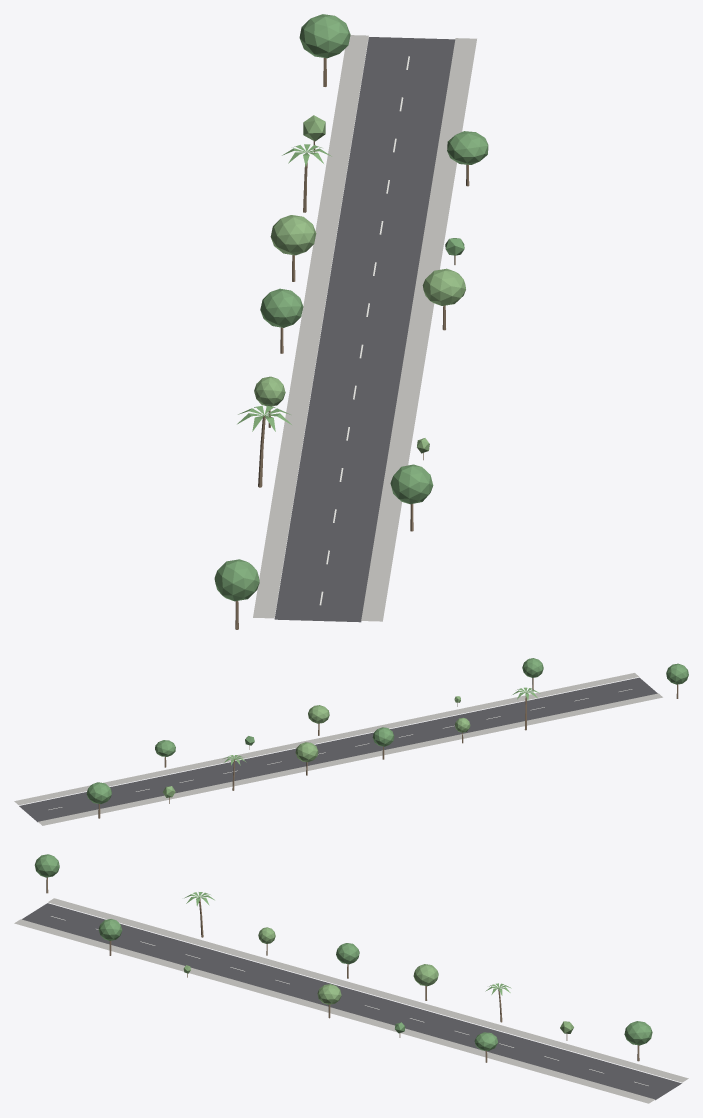
File: tile_-4_-9.glb
3 views of the same model, one above another, from view 1: azimuth 30°, elevation 25°; view 2: azimuth 150°, elevation 25°; view 3: azimuth 270°, elevation 25° (orthographic). The views are drawn at different scales.
Parts seen in each view (by area): view 1: roads_asphalt, roads_sidewalk, nature_foliage_a, nature_foliage_b, nature_trunk, nature_palm_leaf; view 2: roads_asphalt, roads_sidewalk, nature_foliage_a, nature_foliage_b, nature_trunk; view 3: roads_asphalt, roads_sidewalk, nature_foliage_a, nature_foliage_b, nature_trunk.
Boxes of the visible parts, x1,y1,x2,y2 form: roads_asphalt: (274,37,455,622); roads_sidewalk: (253,35,476,621); nature_foliage_a: (214,14,488,601); nature_foliage_b: (254,115,465,453); nature_trunk: (235,58,469,629); nature_palm_leaf: (237,144,331,431); roads_asphalt: (19,677,657,822); roads_sidewalk: (14,673,662,825); nature_foliage_a: (86,658,688,803); nature_foliage_b: (163,696,470,797); nature_trunk: (98,678,678,818); roads_asphalt: (22,903,681,1100); roads_sidewalk: (14,898,688,1103); nature_foliage_a: (34,854,652,1050); nature_foliage_b: (183,927,573,1033); nature_trunk: (46,877,639,1062).
Size of the model in its own units: 85.47 by 7.73 by 112.
